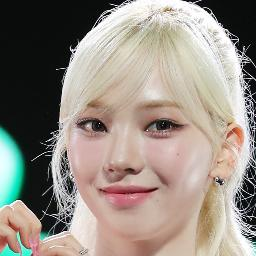face: (78, 54, 202, 232)
